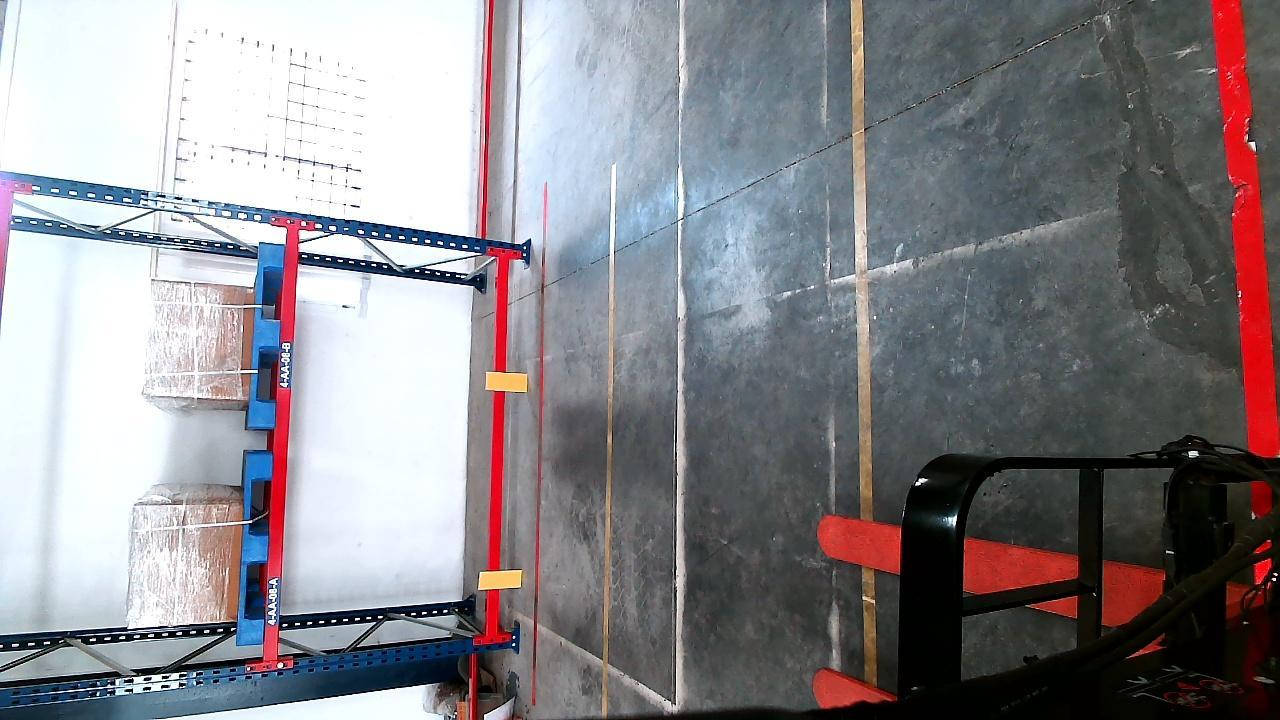yellow_line: (1204, 0, 1278, 457), (838, 1, 877, 516), (597, 186, 624, 720)
